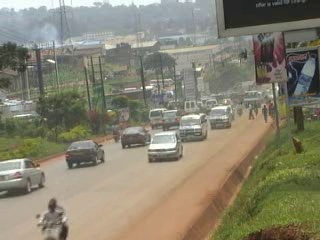Car: (0, 156, 47, 194), (63, 137, 108, 169), (147, 128, 185, 162), (118, 124, 152, 149), (159, 109, 183, 130), (183, 98, 200, 116)
Motorcycle: (34, 193, 71, 239), (110, 119, 120, 144), (236, 100, 244, 116)
